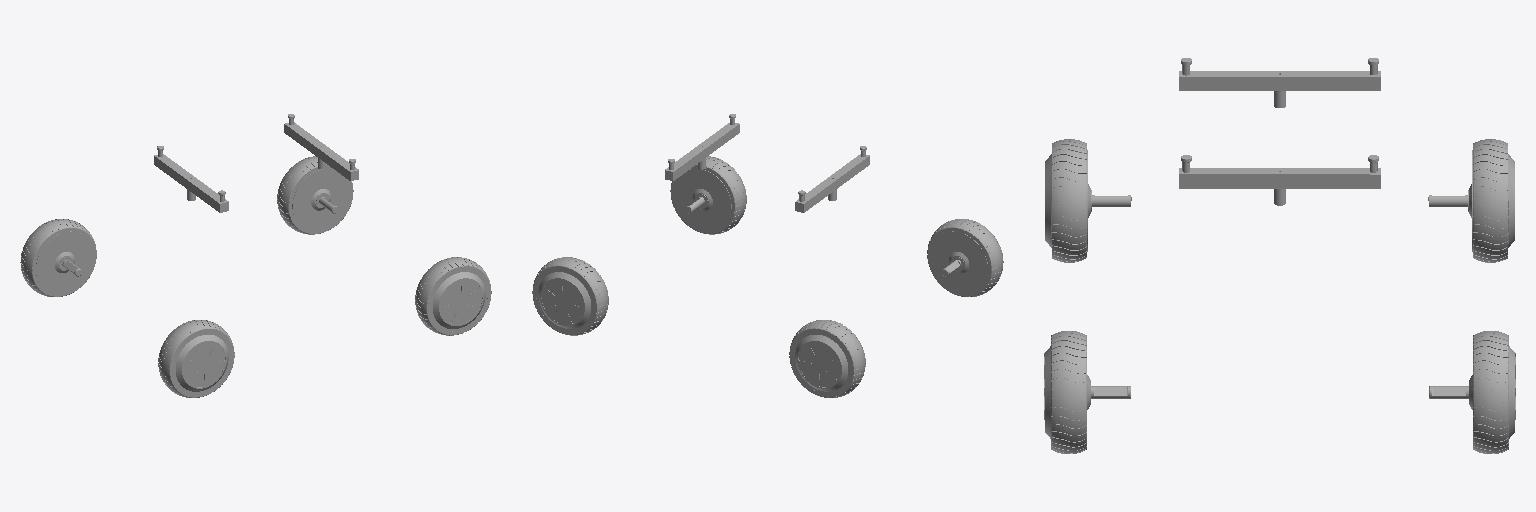
robot.urdf — jimmbot:
<?xml version="1.0" encoding="utf-8"?>
<!-- =================================================================================== -->
<!-- |    This document was autogenerated by xacro from [local-path]/ws/jimmBOT_ws/src/jimmbot_description/urdf/jimmbot.xacro | -->
<!-- |    EDITING THIS FILE BY HAND IS NOT RECOMMENDED                                 | -->
<!-- =================================================================================== -->
<robot name="jimmbot">
  <material name="silver">
    <color rgba="0.700 0.700 0.700 1.000"/>
  </material>
  <gazebo>
    <plugin filename="libgazebo_ros_control.so" name="control"/>
  </gazebo>
  <gazebo reference="base_link">
    <material>Gazebo/Silver</material>
    <mu1>0.2</mu1>
    <mu2>0.2</mu2>
    <selfCollide>true</selfCollide>
    <gravity>true</gravity>
  </gazebo>
  <!-- end Inertial matrixes -->
  <!-- dummy base_link -->
  <link name="base_link"/>
  <joint name="base_link_to_chassis" type="fixed">
    <parent link="base_link"/>
    <child link="chassis"/>
  </joint>
  <!-- end dummy base_link -->
  <!-- chassis -->
  <link name="chassis">
    <visual>
      <origin rpy="0 0 0" xyz="0 0 0"/>
      <geometry>
        <mesh filename="package://jimmbot_description/meshes/chassis/chassis.stl" scale="0.001 0.001 0.001"/>
      </geometry>
      <material name="silver"/>
    </visual>
    <collision>
      <origin rpy="0 0 0" xyz="0 0 0"/>
      <geometry>
        <mesh filename="package://jimmbot_description/meshes/chassis/chassis.stl" scale="0.001 0.001 0.001"/>
      </geometry>
    </collision>
    <inertial>
      <mass value="40.0"/>
      <inertia ixx="6.994E+08" ixy="3.083E+05" ixz="-2.746E+05" iyy="1.202E+09" iyz="-6.256E+05" izz="1.446E+09"/>
    </inertial>
  </link>
  <!-- end chassis -->
  <link name="boggie_right">
    <visual>
      <origin rpy="0 0 0" xyz="0 0 0"/>
      <geometry>
        <mesh filename="package://jimmbot_description/meshes/boggie/boggie.stl" scale="0.001 0.001 0.001"/>
      </geometry>
      <material name="silver"/>
    </visual>
    <collision>
      <origin rpy="0 0 0" xyz="0 0 0"/>
      <geometry>
        <mesh filename="package://jimmbot_description/meshes/boggie/boggie.stl" scale="0.001 0.001 0.001"/>
      </geometry>
    </collision>
    <inertial>
      <mass value="6.0"/>
      <inertia ixx="1.327E+07" ixy="-1.417E+04" ixz="-4.374E+05" iyy="2.052E+08" iyz="-1.830E+06" izz="1.947E+08"/>
    </inertial>
  </link>
  <joint name="chassis_to_boggie_right" type="revolute">
    <axis xyz="-1 0 0"/>
    <limit effort="1000.0" lower="-0.523599" upper="0.523599" velocity="50"/>
    <origin rpy="0 0 1.57" xyz="-1.45758E-03 -0.201552 -19.8088E-03"/>
    <parent link="chassis"/>
    <child link="boggie_right"/>
  </joint>
  <link name="boggie_left">
    <visual>
      <origin rpy="0 0 0" xyz="0 0 0"/>
      <geometry>
        <mesh filename="package://jimmbot_description/meshes/boggie/boggie.stl" scale="0.001 0.001 0.001"/>
      </geometry>
      <material name="silver"/>
    </visual>
    <collision>
      <origin rpy="0 0 0" xyz="0 0 0"/>
      <geometry>
        <mesh filename="package://jimmbot_description/meshes/boggie/boggie.stl" scale="0.001 0.001 0.001"/>
      </geometry>
    </collision>
    <inertial>
      <mass value="6.0"/>
      <inertia ixx="1.327E+07" ixy="-1.417E+04" ixz="-4.374E+05" iyy="2.052E+08" iyz="-1.830E+06" izz="1.947E+08"/>
    </inertial>
  </link>
  <joint name="chassis_to_boggie_left" type="revolute">
    <axis xyz="1 0 0"/>
    <limit effort="1000.0" lower="-0.523599" upper="0.523599" velocity="50"/>
    <origin rpy="0 0 -1.57" xyz="-1.45758E-03 0.201552 -19.8088E-03"/>
    <parent link="chassis"/>
    <child link="boggie_left"/>
  </joint>
  <!-- end boggies -->
  <link name="differential_front">
    <visual>
      <origin rpy="0 0 0" xyz="0 0 0"/>
      <geometry>
        <mesh filename="package://jimmbot_description/meshes/differential/differential.stl" scale="0.001 0.001 0.001"/>
      </geometry>
      <material name="silver"/>
    </visual>
    <collision>
      <origin rpy="0 0 0" xyz="0 0 0"/>
      <geometry>
        <mesh filename="package://jimmbot_description/meshes/differential/differential.stl" scale="0.001 0.001 0.001"/>
      </geometry>
    </collision>
    <inertial>
      <mass value="0.8"/>
      <inertia ixx="9.420E+04" ixy="-1.785E-10" ixz="-2.393E-06" iyy="5.077E+06" iyz="0.00" izz="5.039E+06"/>
    </inertial>
  </link>
  <joint name="chassis_to_differential_front" type="revolute">
    <axis xyz="0 0 -1"/>
    <limit effort="1000.0" lower="-0.523599" upper="0.523599" velocity="50"/>
    <origin rpy="0 0 1.57" xyz="0.1475 0 147.0E-03"/>
    <parent link="chassis"/>
    <child link="differential_front"/>
  </joint>
  <link name="differential_back">
    <visual>
      <origin rpy="0 0 0" xyz="0 0 0"/>
      <geometry>
        <mesh filename="package://jimmbot_description/meshes/differential/differential.stl" scale="0.001 0.001 0.001"/>
      </geometry>
      <material name="silver"/>
    </visual>
    <collision>
      <origin rpy="0 0 0" xyz="0 0 0"/>
      <geometry>
        <mesh filename="package://jimmbot_description/meshes/differential/differential.stl" scale="0.001 0.001 0.001"/>
      </geometry>
    </collision>
    <inertial>
      <mass value="0.8"/>
      <inertia ixx="9.420E+04" ixy="-1.785E-10" ixz="-2.393E-06" iyy="5.077E+06" iyz="0.00" izz="5.039E+06"/>
    </inertial>
  </link>
  <joint name="chassis_to_differential_back" type="revolute">
    <axis xyz="0 0 -1"/>
    <limit effort="1000.0" lower="-0.523599" upper="0.523599" velocity="50"/>
    <origin rpy="0 0 -1.57" xyz="-0.1475 0 147.0E-03"/>
    <parent link="chassis"/>
    <child link="differential_back"/>
  </joint>
  <!-- end differential -->
  <link name="wheel_axis_front_left">
    <visual>
      <origin rpy="0 0 0" xyz="0 0 0"/>
      <geometry>
        <mesh filename="package://jimmbot_description/meshes/wheel/wheel_axis.stl" scale="0.001 0.001 0.001"/>
      </geometry>
      <material name="silver"/>
    </visual>
    <collision>
      <origin rpy="0 0 0" xyz="0 0 0"/>
      <geometry>
        <mesh filename="package://jimmbot_description/meshes/wheel/wheel_axis.stl" scale="0.001 0.001 0.001"/>
      </geometry>
    </collision>
    <inertial>
      <mass value="0.039"/>
      <inertia ixx="4.476E+04" ixy="-1.834E+05" ixz="-1.686E+05" iyy="1.446E+06" iyz="-2.198E+04" izz="1.450E+06"/>
    </inertial>
  </link>
  <link name="wheel_front_left">
    <visual>
      <origin rpy="0 0 0" xyz="0 0 0"/>
      <geometry>
        <mesh filename="package://jimmbot_description/meshes/wheel/wheel.stl" scale="0.001 0.001 0.001"/>
      </geometry>
      <material name="silver"/>
    </visual>
    <collision>
      <origin rpy="0 0 0" xyz="0 0 0"/>
      <geometry>
        <mesh filename="package://jimmbot_description/meshes/wheel/wheel.stl" scale="0.001 0.001 0.001"/>
      </geometry>
    </collision>
    <inertial>
      <mass value="1.0"/>
      <inertia ixx="4.654E+06" ixy="-7.410E+06" ixz="-6.730E+06" iyy="5.291E+07" iyz="-9.714E+05" izz="5.309E+07"/>
    </inertial>
  </link>
  <joint name="boggie_left_to_wheel_axis_front_left" type="fixed">
    <origin rpy="0.785398 0 3.14" xyz="-0.04 0.290414 -70.2315E-03"/>
    <parent link="boggie_left"/>
    <child link="wheel_axis_front_left"/>
  </joint>
  <joint name="wheel_axis_front_left_to_wheel_front_left" type="continuous">
    <axis xyz="1 0 0"/>
    <origin rpy="0 0 0" xyz="0 0 0"/>
    <parent link="wheel_axis_front_left"/>
    <child link="wheel_front_left"/>
  </joint>
  <link name="wheel_axis_front_right">
    <visual>
      <origin rpy="0 0 0" xyz="0 0 0"/>
      <geometry>
        <mesh filename="package://jimmbot_description/meshes/wheel/wheel_axis.stl" scale="0.001 0.001 0.001"/>
      </geometry>
      <material name="silver"/>
    </visual>
    <collision>
      <origin rpy="0 0 0" xyz="0 0 0"/>
      <geometry>
        <mesh filename="package://jimmbot_description/meshes/wheel/wheel_axis.stl" scale="0.001 0.001 0.001"/>
      </geometry>
    </collision>
    <inertial>
      <mass value="0.039"/>
      <inertia ixx="4.476E+04" ixy="-1.834E+05" ixz="-1.686E+05" iyy="1.446E+06" iyz="-2.198E+04" izz="1.450E+06"/>
    </inertial>
  </link>
  <link name="wheel_front_right">
    <visual>
      <origin rpy="0 0 0" xyz="0 0 0"/>
      <geometry>
        <mesh filename="package://jimmbot_description/meshes/wheel/wheel.stl" scale="0.001 0.001 0.001"/>
      </geometry>
      <material name="silver"/>
    </visual>
    <collision>
      <origin rpy="0 0 0" xyz="0 0 0"/>
      <geometry>
        <mesh filename="package://jimmbot_description/meshes/wheel/wheel.stl" scale="0.001 0.001 0.001"/>
      </geometry>
    </collision>
    <inertial>
      <mass value="1.0"/>
      <inertia ixx="4.654E+06" ixy="-7.410E+06" ixz="-6.730E+06" iyy="5.291E+07" iyz="-9.714E+05" izz="5.309E+07"/>
    </inertial>
  </link>
  <joint name="boggie_right_to_wheel_axis_front_right" type="fixed">
    <origin rpy="-0.785398 0 -3.14" xyz="-0.04 -0.290414 -70.2315E-03"/>
    <parent link="boggie_right"/>
    <child link="wheel_axis_front_right"/>
  </joint>
  <joint name="wheel_axis_front_right_to_wheel_front_right" type="continuous">
    <axis xyz="-1 0 0"/>
    <origin rpy="0 0 0" xyz="0 0 0"/>
    <parent link="wheel_axis_front_right"/>
    <child link="wheel_front_right"/>
  </joint>
  <link name="wheel_axis_back_left">
    <visual>
      <origin rpy="0 0 0" xyz="0 0 0"/>
      <geometry>
        <mesh filename="package://jimmbot_description/meshes/wheel/wheel_axis.stl" scale="0.001 0.001 0.001"/>
      </geometry>
      <material name="silver"/>
    </visual>
    <collision>
      <origin rpy="0 0 0" xyz="0 0 0"/>
      <geometry>
        <mesh filename="package://jimmbot_description/meshes/wheel/wheel_axis.stl" scale="0.001 0.001 0.001"/>
      </geometry>
    </collision>
    <inertial>
      <mass value="0.039"/>
      <inertia ixx="4.476E+04" ixy="-1.834E+05" ixz="-1.686E+05" iyy="1.446E+06" iyz="-2.198E+04" izz="1.450E+06"/>
    </inertial>
  </link>
  <link name="wheel_back_left">
    <visual>
      <origin rpy="0 0 0" xyz="0 0 0"/>
      <geometry>
        <mesh filename="package://jimmbot_description/meshes/wheel/wheel.stl" scale="0.001 0.001 0.001"/>
      </geometry>
      <material name="silver"/>
    </visual>
    <collision>
      <origin rpy="0 0 0" xyz="0 0 0"/>
      <geometry>
        <mesh filename="package://jimmbot_description/meshes/wheel/wheel.stl" scale="0.001 0.001 0.001"/>
      </geometry>
    </collision>
    <inertial>
      <mass value="1.0"/>
      <inertia ixx="4.654E+06" ixy="-7.410E+06" ixz="-6.730E+06" iyy="5.291E+07" iyz="-9.714E+05" izz="5.309E+07"/>
    </inertial>
  </link>
  <joint name="boggie_left_to_wheel_axis_back_left" type="fixed">
    <origin rpy="-0.785398 0 -3.14" xyz="-0.04 -0.290414 -70.2315E-03"/>
    <parent link="boggie_left"/>
    <child link="wheel_axis_back_left"/>
  </joint>
  <joint name="wheel_axis_back_left_to_wheel_back_left" type="continuous">
    <axis xyz="1 0 0"/>
    <origin rpy="0 0 0" xyz="0 0 0"/>
    <parent link="wheel_axis_back_left"/>
    <child link="wheel_back_left"/>
  </joint>
  <link name="wheel_axis_back_right">
    <visual>
      <origin rpy="0 0 0" xyz="0 0 0"/>
      <geometry>
        <mesh filename="package://jimmbot_description/meshes/wheel/wheel_axis.stl" scale="0.001 0.001 0.001"/>
      </geometry>
      <material name="silver"/>
    </visual>
    <collision>
      <origin rpy="0 0 0" xyz="0 0 0"/>
      <geometry>
        <mesh filename="package://jimmbot_description/meshes/wheel/wheel_axis.stl" scale="0.001 0.001 0.001"/>
      </geometry>
    </collision>
    <inertial>
      <mass value="0.039"/>
      <inertia ixx="4.476E+04" ixy="-1.834E+05" ixz="-1.686E+05" iyy="1.446E+06" iyz="-2.198E+04" izz="1.450E+06"/>
    </inertial>
  </link>
  <link name="wheel_back_right">
    <visual>
      <origin rpy="0 0 0" xyz="0 0 0"/>
      <geometry>
        <mesh filename="package://jimmbot_description/meshes/wheel/wheel.stl" scale="0.001 0.001 0.001"/>
      </geometry>
      <material name="silver"/>
    </visual>
    <collision>
      <origin rpy="0 0 0" xyz="0 0 0"/>
      <geometry>
        <mesh filename="package://jimmbot_description/meshes/wheel/wheel.stl" scale="0.001 0.001 0.001"/>
      </geometry>
    </collision>
    <inertial>
      <mass value="1.0"/>
      <inertia ixx="4.654E+06" ixy="-7.410E+06" ixz="-6.730E+06" iyy="5.291E+07" iyz="-9.714E+05" izz="5.309E+07"/>
    </inertial>
  </link>
  <joint name="boggie_right_to_wheel_axis_back_right" type="fixed">
    <origin rpy="0.785398 0 3.14" xyz="-0.04 0.290414 -70.2315E-03"/>
    <parent link="boggie_right"/>
    <child link="wheel_axis_back_right"/>
  </joint>
  <joint name="wheel_axis_back_right_to_wheel_back_right" type="continuous">
    <axis xyz="-1 0 0"/>
    <origin rpy="0 0 0" xyz="0 0 0"/>
    <parent link="wheel_axis_back_right"/>
    <child link="wheel_back_right"/>
  </joint>
  <!-- end wheels -->
</robot>

--- Facts derived from the render (not from the file) ---
The picture shows the robot from 3 angles, left to right: view 1: azimuth 30°, elevation 25°; view 2: azimuth 150°, elevation 25°; view 3: azimuth 270°, elevation 25°; orthographic projection.
Model jimmbot with 14 links and 13 joints (4 revolute, 4 continuous, 5 fixed), rooted at base_link, posed all joints at 0.
Links seen in each view (by area): view 1: wheel_front_right, wheel_back_right, wheel_back_left, wheel_front_left, differential_back, differential_front; view 2: wheel_front_left, wheel_back_left, wheel_back_right, wheel_front_right, differential_back, differential_front; view 3: wheel_back_left, wheel_back_right, wheel_front_left, wheel_front_right, differential_front, differential_back.
Link boxes in pixels (x1=…): wheel_front_right: x1=415, y1=257, x2=491, y2=335; wheel_back_right: x1=158, y1=320, x2=234, y2=397; wheel_back_left: x1=20, y1=219, x2=96, y2=296; wheel_front_left: x1=277, y1=156, x2=353, y2=234; differential_back: x1=154, y1=146, x2=228, y2=212; differential_front: x1=284, y1=114, x2=358, y2=180; wheel_front_left: x1=532, y1=257, x2=608, y2=335; wheel_back_left: x1=789, y1=320, x2=865, y2=397; wheel_back_right: x1=927, y1=219, x2=1003, y2=296; wheel_front_right: x1=670, y1=156, x2=746, y2=234; differential_back: x1=795, y1=146, x2=869, y2=212; differential_front: x1=665, y1=114, x2=739, y2=180; wheel_back_left: x1=1468, y1=139, x2=1514, y2=262; wheel_back_right: x1=1045, y1=139, x2=1091, y2=262; wheel_front_left: x1=1469, y1=331, x2=1515, y2=453; wheel_front_right: x1=1044, y1=331, x2=1090, y2=453; differential_front: x1=1179, y1=155, x2=1380, y2=205; differential_back: x1=1179, y1=58, x2=1380, y2=107.
Bounding box of the posed robot: 0.7397 × 0.6036 × 0.3464 m (x, y, z).
10 mesh visuals loaded from 5 distinct referenced files (3 binary STL); not drawn: 3 (reference not matched to a file when rendering).
